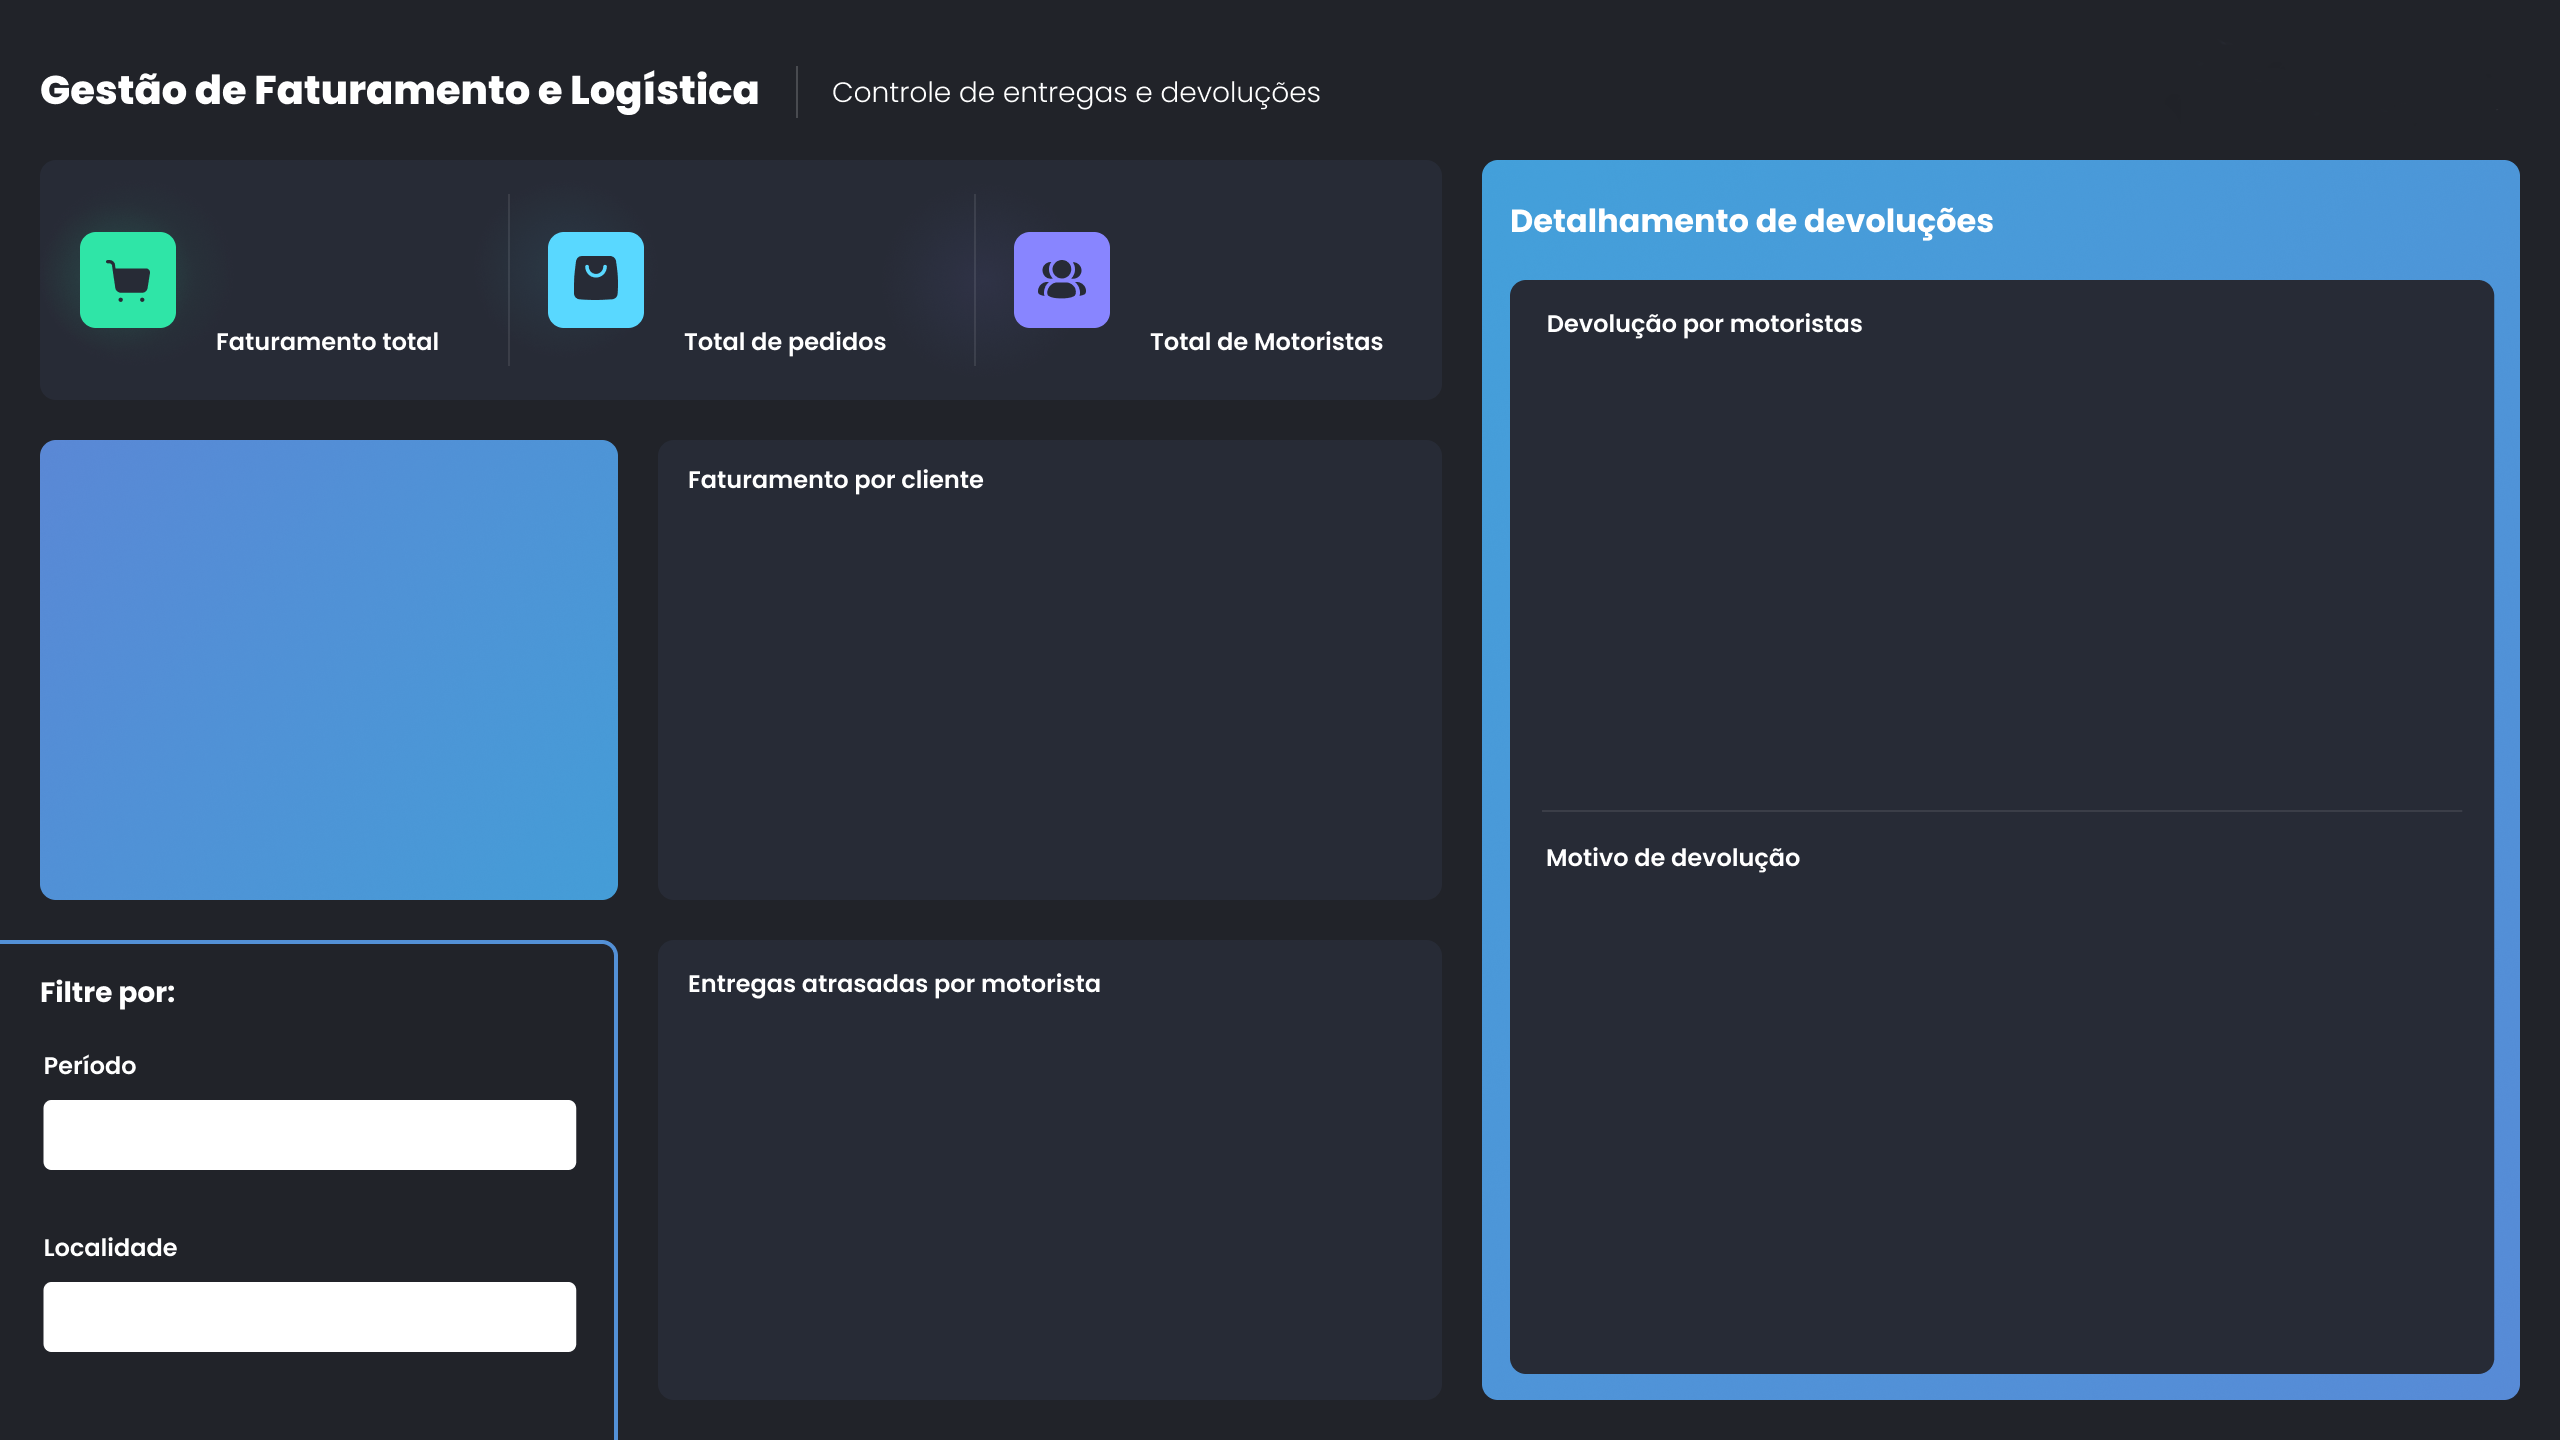

This screenshot's page, from the dashboard's own definition file:
{"tool":"powerbi","page":{"name":"Página 1","canvas":[1280,720],"ordinal":0},"visuals":[{"type":"card","fields":{"Values":["Sum(Logística.R$ Faturados)"]},"box":[75.4,71.8,197.8,131.9],"z":0},{"type":"card","fields":{"Values":["Count(Logística.Nº Pedido)"]},"box":[327.4,82.4,130.7,109.5],"z":1000},{"type":"card","fields":{"Values":["Count(Logística.Motorista)"]},"box":[539.3,82.4,186.1,109.5],"z":2000},{"type":"clusteredBarChart","fields":{"Category":["Logística.Cliente"],"Y":["Sum(Logística.R$ Faturados)"]},"box":[327.4,234.3,398,215.5],"z":3000},{"type":"donutChart","title":"Pedidos por Status","fields":{"Category":["Logística.Status"],"Y":["CountNonNull(Logística.Nº Pedido)"]},"box":[21.2,223.7,287.3,226.1],"z":4000},{"type":"clusteredBarChart","fields":{"Category":["Logística.Motorista"],"Y":["CountNonNull(Logística.Nº Pedido)"]},"box":[327.4,484,398,226.1],"z":5000},{"type":"treemap","fields":{"Group":["Logística.Mot. Devolução"],"Values":["CountNonNull(Logística.Nº Pedido)"]},"box":[774.8,440.4,462.8,240.2],"z":6000},{"type":"columnChart","fields":{"Category":["Logística.Motorista"],"Y":["CountNonNull(Logística.Nº Pedido)"],"Series":["Logística.Mot. Devolução"]},"box":[774.8,181.3,462.8,223.7],"z":7000},{"type":"slicer","fields":{"Values":["Logística.Destino"]},"box":[0,635.9,307.3,44.7],"z":8000},{"type":"slicer","fields":{"Values":["Logística.Data Emissão Pedido.Variation.Hierarquia de datas.Ano"]},"box":[0,545,308.1,45.2],"z":9000}]}

Visuals, with their boxes in screenshot pixels (x1, y1, x2, y2), scaled from the page's 1280x720 canvas onto the 2560x1440 screenshot:
card - Sum(Logística.R$ Faturados): <bbox>151, 144, 546, 407</bbox>
card - Count(Logística.Nº Pedido): <bbox>655, 165, 916, 384</bbox>
card - Count(Logística.Motorista): <bbox>1079, 165, 1451, 384</bbox>
clusteredBarChart - Logística.Cliente x Sum(Logística.R$ Faturados): <bbox>655, 469, 1451, 900</bbox>
"Pedidos por Status" donutChart: <bbox>42, 447, 617, 900</bbox>
clusteredBarChart - Logística.Motorista x CountNonNull(Logística.Nº Pedido): <bbox>655, 968, 1451, 1420</bbox>
treemap - Logística.Mot. Devolução x CountNonNull(Logística.Nº Pedido): <bbox>1550, 881, 2475, 1361</bbox>
columnChart - Logística.Motorista x CountNonNull(Logística.Nº Pedido): <bbox>1550, 363, 2475, 810</bbox>
slicer - Logística.Destino: <bbox>0, 1272, 615, 1361</bbox>
slicer - Logística.Data Emissão Pedido.Variation.Hierarquia de datas.Ano: <bbox>0, 1090, 616, 1180</bbox>
